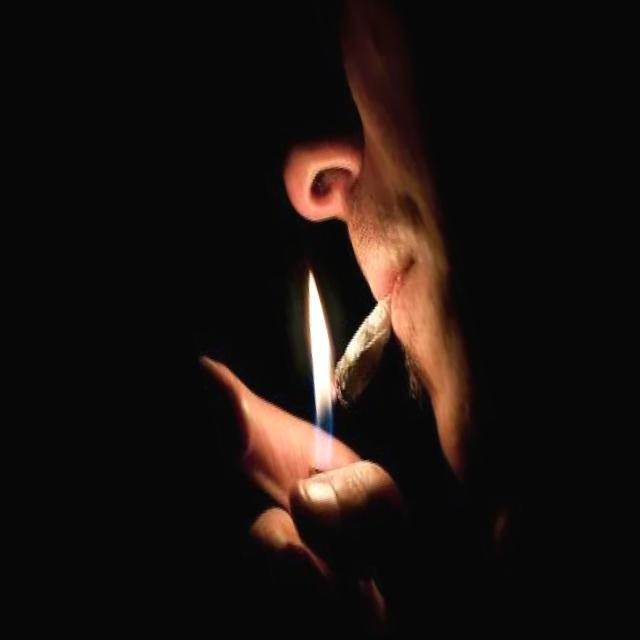cigarette: (284, 265, 431, 448)
